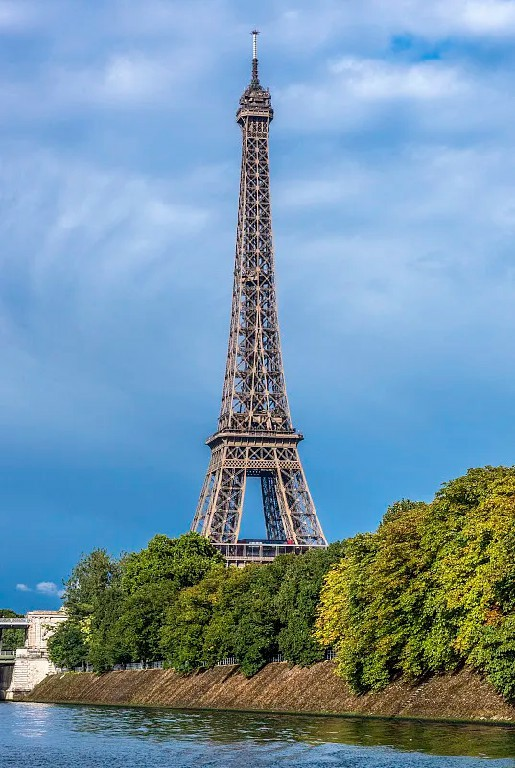Eiffel: (189, 27, 335, 567)
